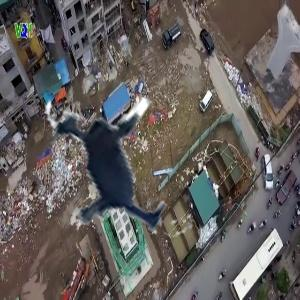drone: (11, 56, 226, 271)
